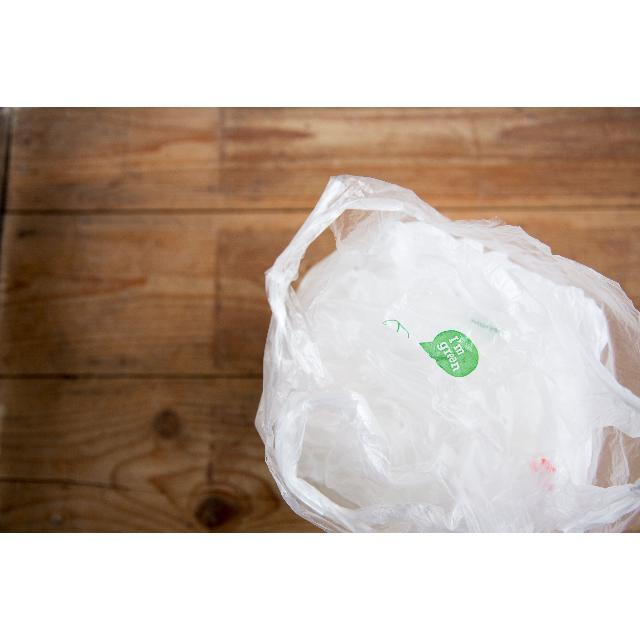plastic: (256, 176, 639, 532)
